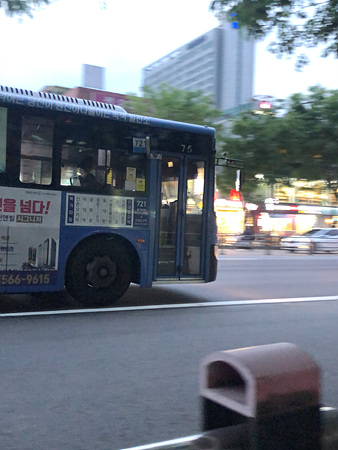entrance: (158, 150, 200, 281)
